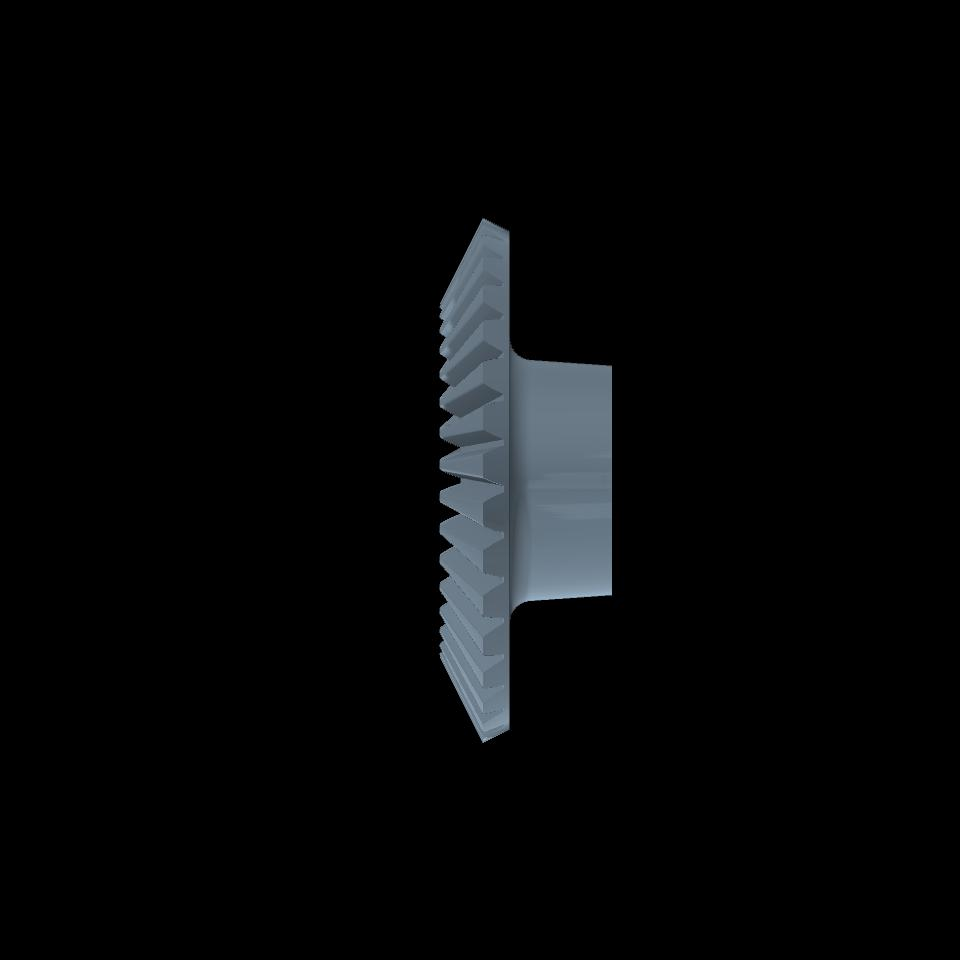bevel: (441, 217, 510, 743)
